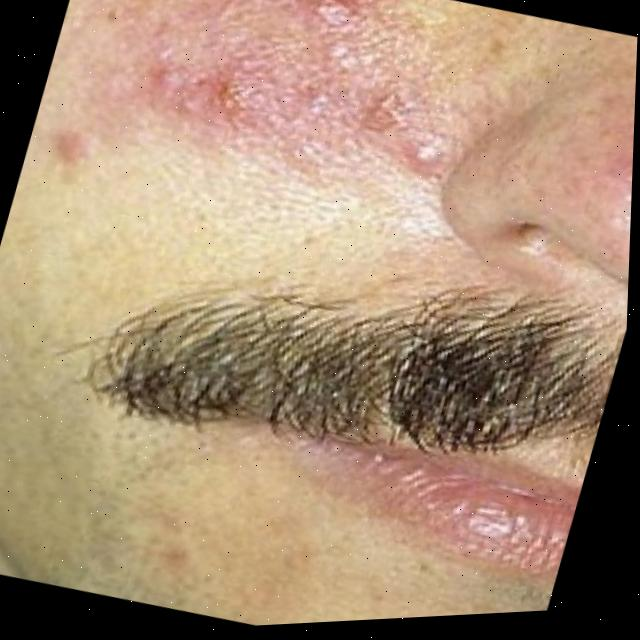Rosacea: (107, 0, 464, 184)
